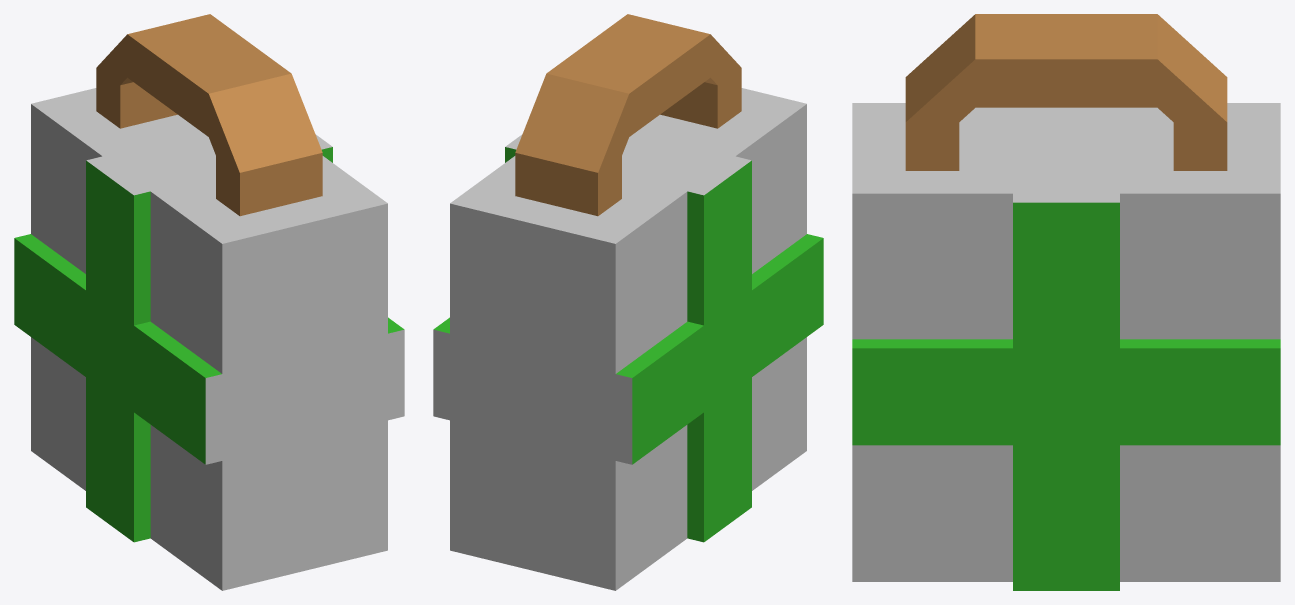
File: medkit.glb
3 renders of one model, left to right at view 1: azimuth 30°, elevation 25°; view 2: azimuth 150°, elevation 25°; view 3: azimuth 270°, elevation 25°, orthographic. The views are drawn at different scales.
Visible parts, largest first — view 1: Cube; view 2: Cube; view 3: Cube.
Boxes of the visible parts, x1,y1,x2,y2 form: Cube: (14,14,404,590); Cube: (433,14,823,590); Cube: (852,14,1280,590).
Size of the model in its own units: 0.2999 by 0.6435 by 0.4998.
1 material, 1 textured.
